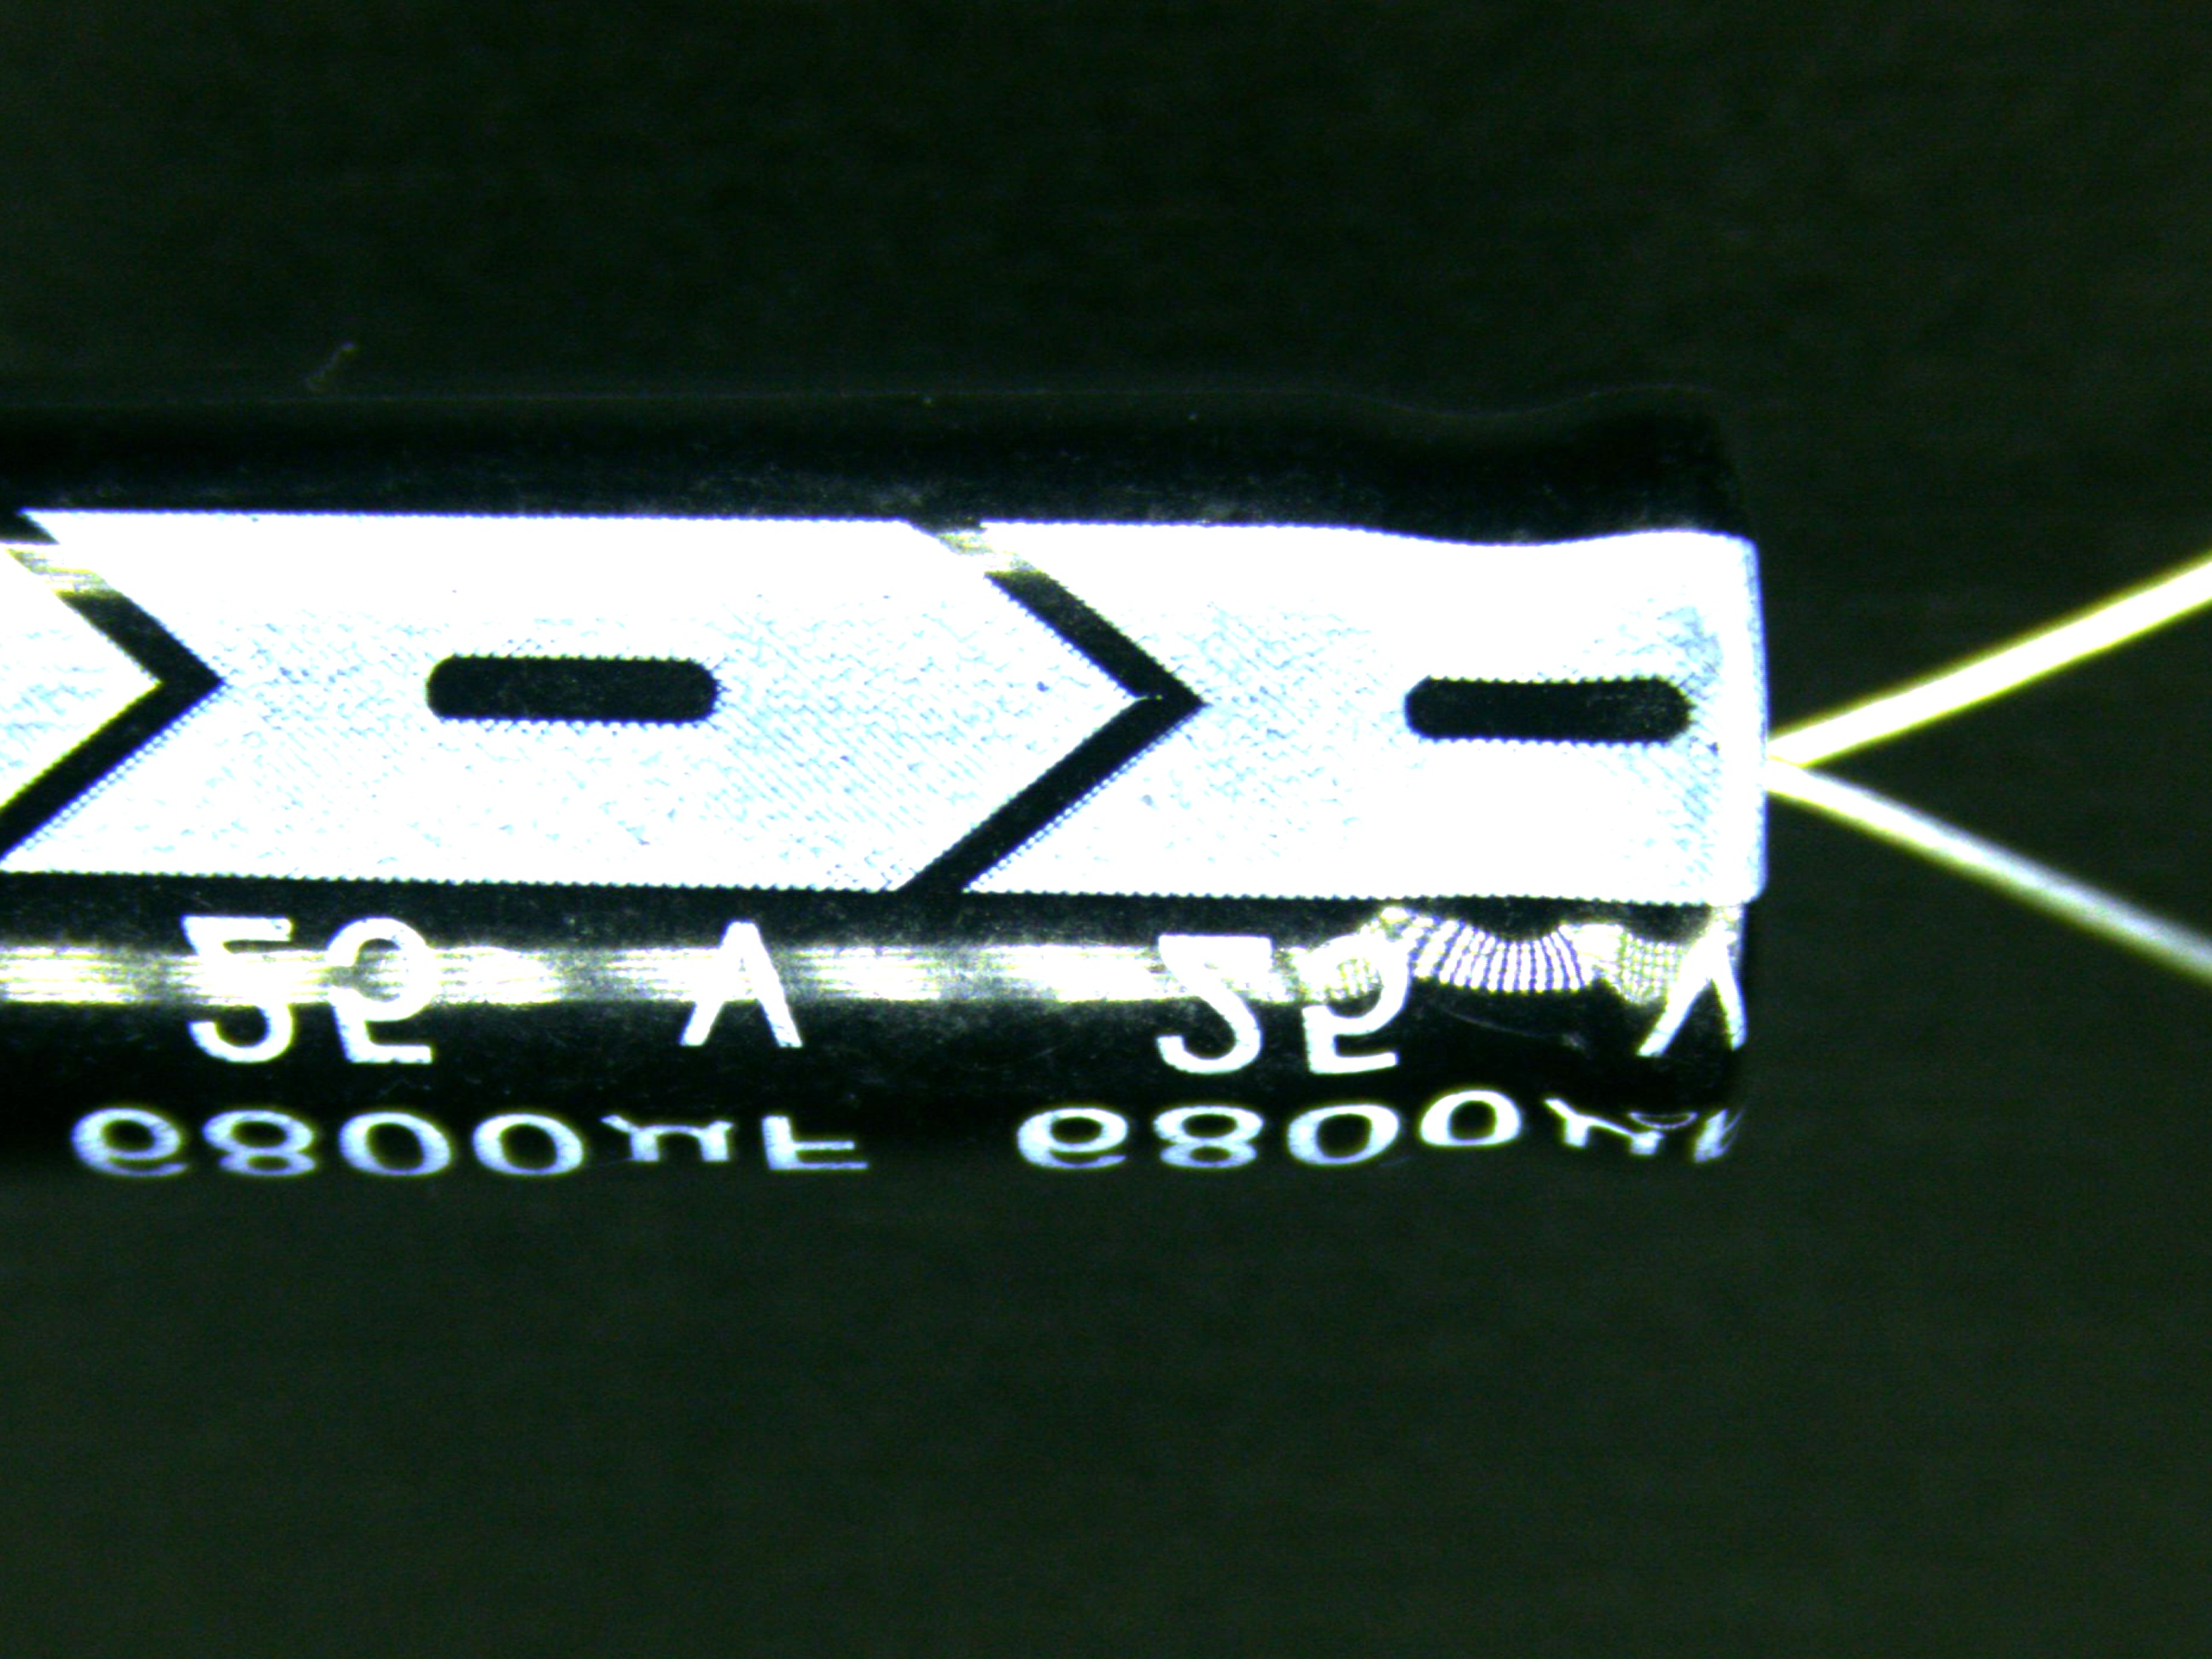c3: (0, 355, 2212, 1204)
